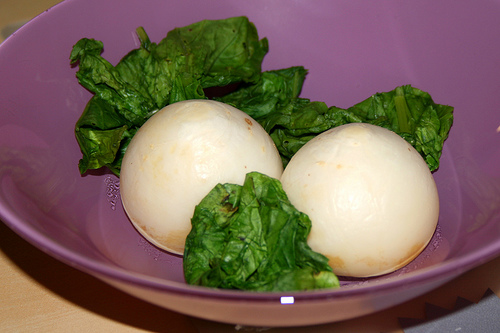turnip: (123, 95, 289, 263), (278, 121, 438, 278)
